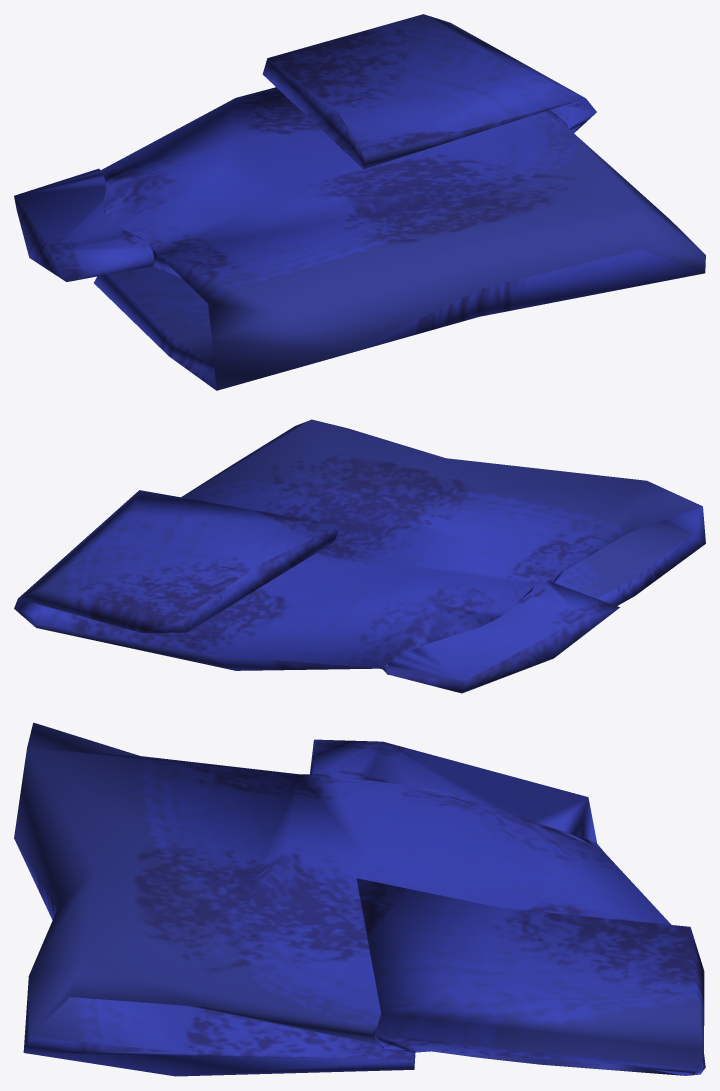
File: MDL_CLBL_dirty.fbx
The picture shows the model from 3 angles, top to bottom: view 1: azimuth 30°, elevation 25°; view 2: azimuth 150°, elevation 25°; view 3: azimuth 270°, elevation 25°; orthographic projection. The views are drawn at different scales.
Parts seen in each view (by area): view 1: MDL_CL_dirty; view 2: MDL_CL_dirty; view 3: MDL_CL_dirty.
Part boxes in pixels (box(x1,y1,x2,y2)): MDL_CL_dirty: box(14, 14, 705, 390); MDL_CL_dirty: box(14, 419, 705, 693); MDL_CL_dirty: box(14, 722, 705, 1076).
Size of the model in its own units: 87.54 by 12.01 by 81.66.
